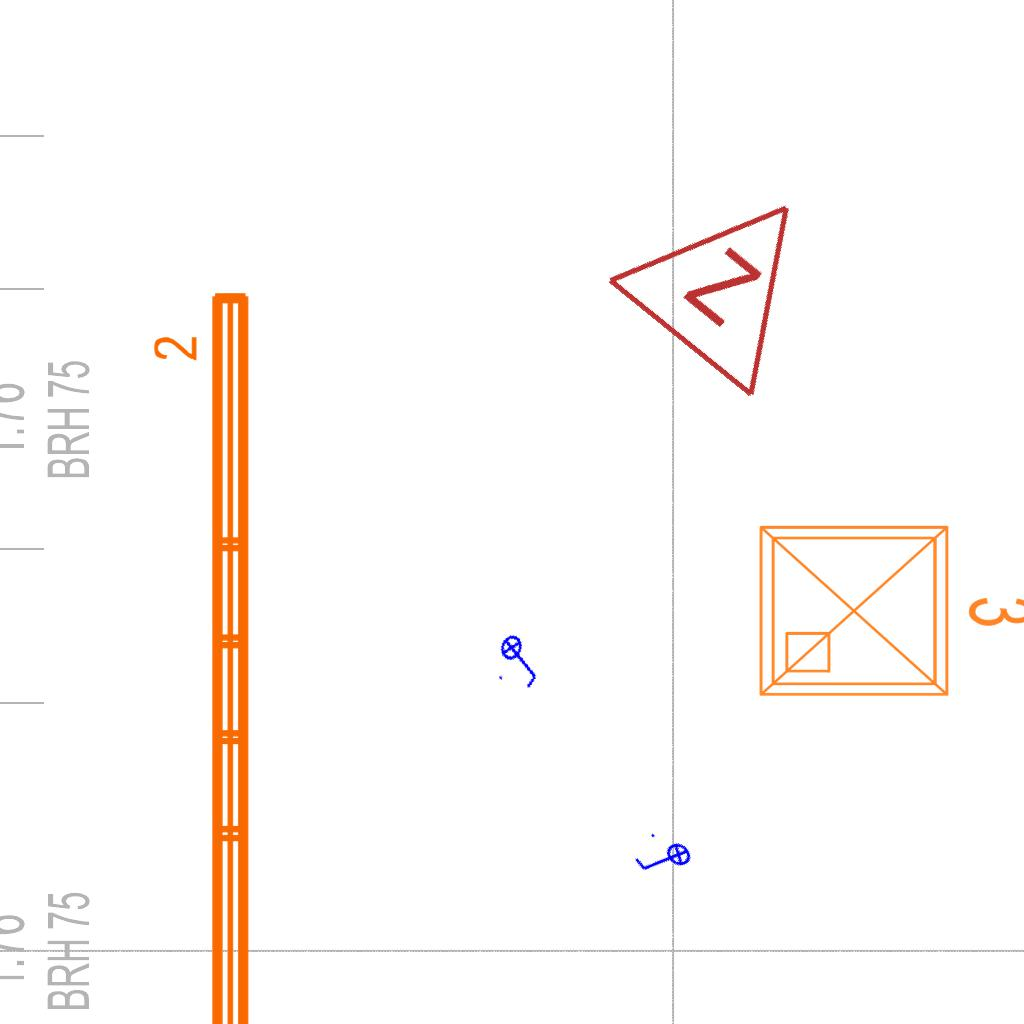Ambulanz_Pendelleuchte_LED: (149, 284, 261, 1024)
Ausschalter_beleuchtet: (627, 824, 701, 896), (489, 625, 553, 695)
Einbaudownlights_LED_Konferenzraeume: (745, 503, 1024, 711)
Zimmersignalleuchte: (591, 132, 871, 412)
